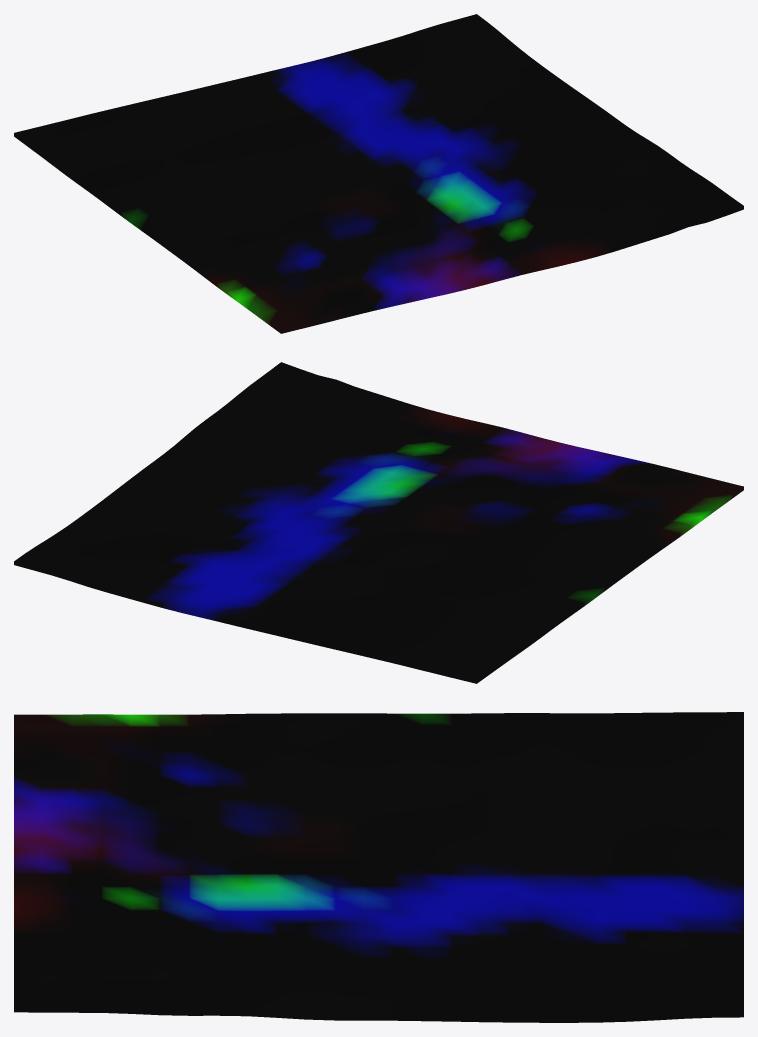
Rendered from coast_10_7.glb.
3 views of the same model, one above another, from view 1: azimuth 30°, elevation 25°; view 2: azimuth 150°, elevation 25°; view 3: azimuth 270°, elevation 25° (orthographic). The views are drawn at different scales.
Parts seen in each view (by area): view 1: terrain; view 2: terrain; view 3: terrain.
Boxes of the visible parts, box(x1,y1,x2,y2) form: terrain: box(14, 14, 743, 333); terrain: box(14, 362, 743, 683); terrain: box(14, 712, 743, 1022).
Size of the model in its own units: 200 by 6.64 by 200.
